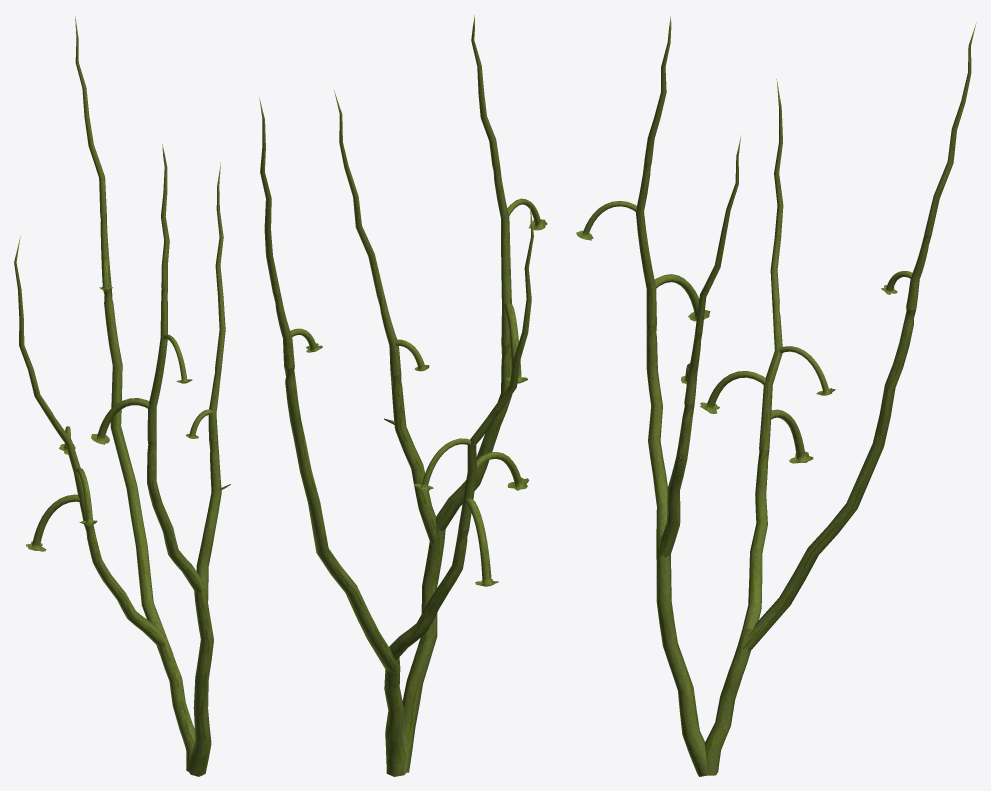
The model's file is VG07_6_stem.dae.
3 views of the same model, side by side, from view 1: azimuth 30°, elevation 25°; view 2: azimuth 150°, elevation 25°; view 3: azimuth 270°, elevation 25° (orthographic). The views are drawn at different scales.
Visible parts, largest first — view 1: VG07_021; view 2: VG07_021; view 3: VG07_021.
Part boxes in pixels (left/top/right/bottom): VG07_021: left=14, top=16, right=230, bottom=776; VG07_021: left=259, top=15, right=547, bottom=776; VG07_021: left=576, top=16, right=976, bottom=776.
Bounding box in the file's own units: 9.05 × 14.78 × 30.64.
